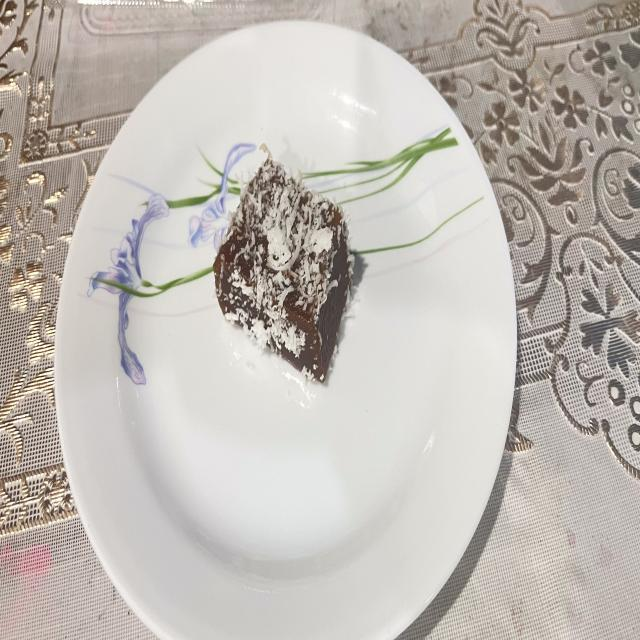kaswi: (214, 151, 354, 382)
